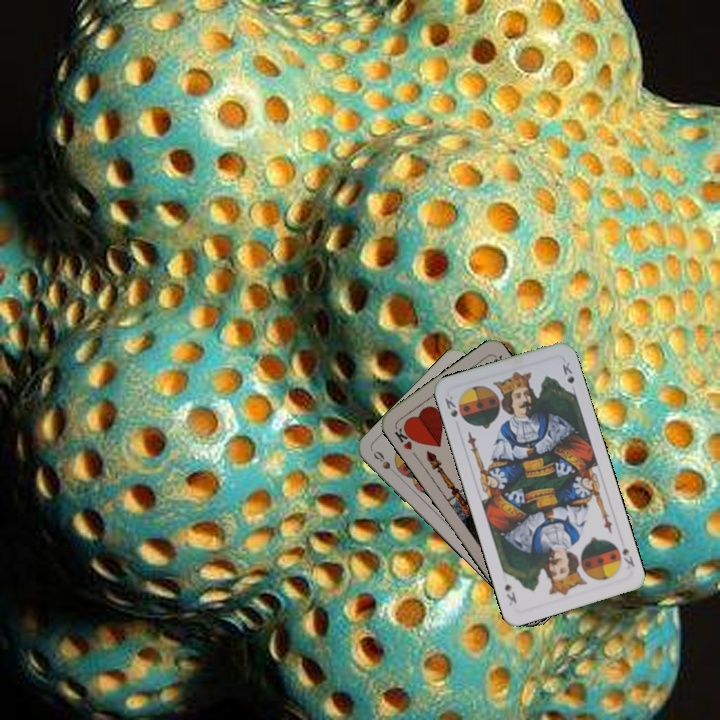HK: (390, 421, 418, 453)
S9: (369, 447, 404, 479)
SK: (618, 543, 637, 572), (441, 392, 460, 420)
